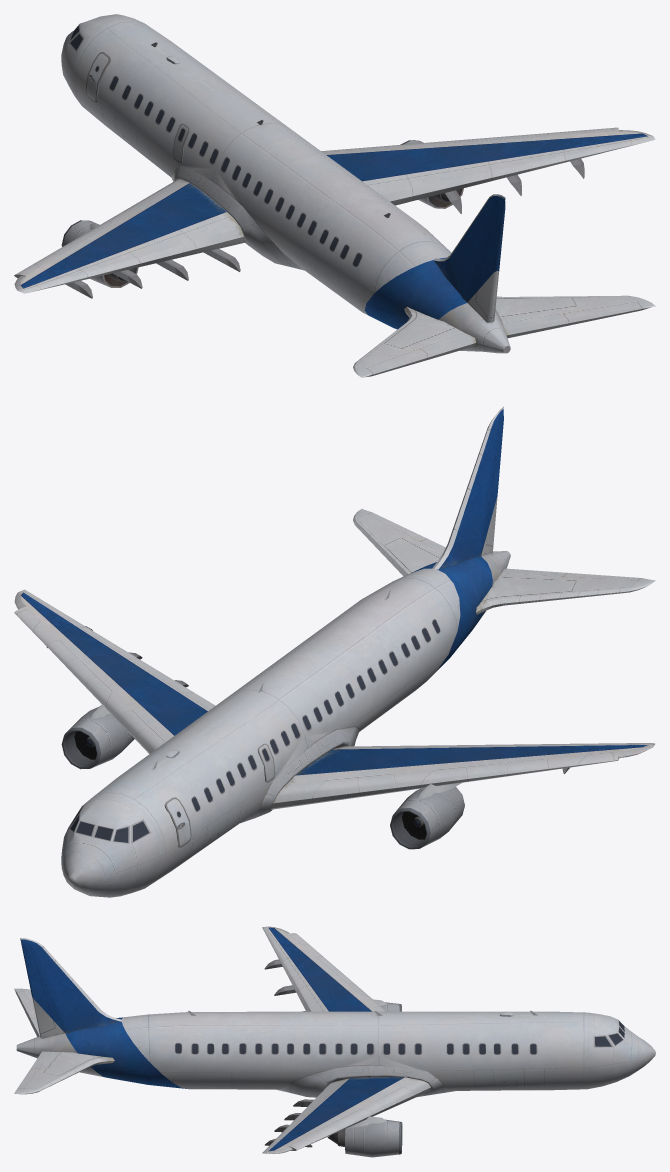
File: Airplane_Large_Passenger.glb
3 views of the same model, one above another, from view 1: azimuth 30°, elevation 25°; view 2: azimuth 150°, elevation 25°; view 3: azimuth 270°, elevation 25° (orthographic). The views are drawn at different scales.
Visible parts, largest first — view 1: Airplane_Large_Passenger__LOD3; view 2: Airplane_Large_Passenger__LOD3; view 3: Airplane_Large_Passenger__LOD3.
Part boxes in pixels (x1,y1,x2,y2): Airplane_Large_Passenger__LOD3: (14,14,655,377); Airplane_Large_Passenger__LOD3: (14,406,655,897); Airplane_Large_Passenger__LOD3: (14,926,655,1157).
Bounding box in the file's own units: 21.54 × 7.03 × 25.68.
1 material, 1 textured.
